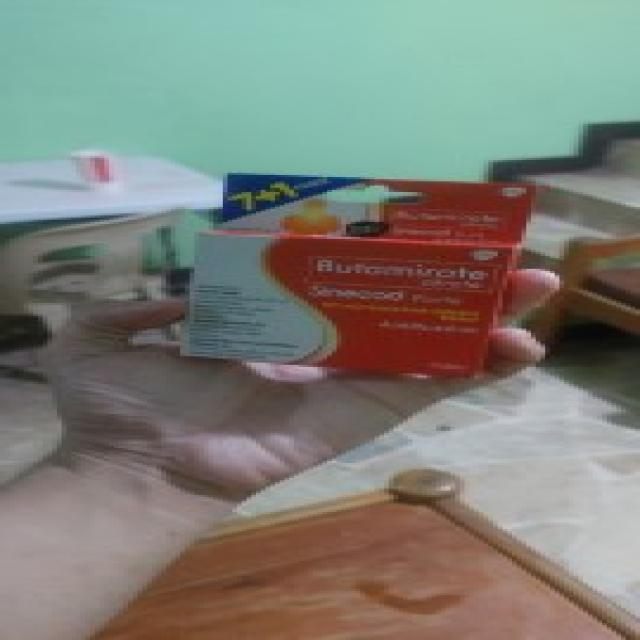Cacat: (166, 170, 543, 380)
